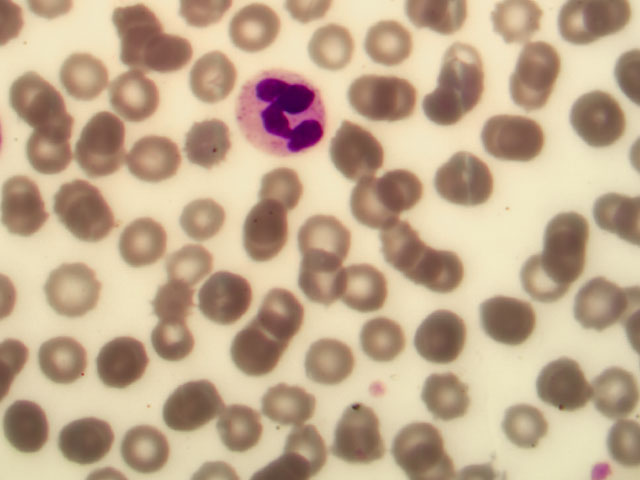Platelets: (590, 461, 613, 480), (367, 380, 389, 399)
RBC: (512, 42, 556, 107), (566, 1, 632, 43), (566, 94, 632, 136), (536, 201, 602, 243), (533, 239, 599, 281), (514, 256, 580, 298), (567, 282, 633, 324), (476, 299, 542, 341), (412, 313, 478, 355), (428, 250, 494, 292), (394, 240, 460, 282), (372, 216, 438, 258), (415, 370, 481, 412), (490, 409, 556, 451), (527, 358, 593, 400), (574, 375, 640, 417), (380, 419, 446, 461), (329, 405, 395, 447), (286, 421, 352, 463), (259, 381, 325, 423), (214, 404, 280, 446), (162, 382, 228, 424), (118, 429, 184, 471), (61, 416, 127, 458), (5, 401, 71, 443), (307, 22, 363, 71), (354, 17, 410, 66), (338, 71, 394, 120), (371, 75, 427, 124), (333, 120, 389, 169), (340, 177, 396, 226), (373, 158, 429, 207), (439, 154, 495, 203), (482, 116, 538, 165), (412, 80, 468, 129), (431, 53, 487, 102), (498, 59, 554, 108), (490, 1, 556, 42), (58, 50, 110, 101), (103, 67, 155, 118), (121, 17, 173, 68), (144, 22, 196, 73), (180, 51, 232, 102), (181, 115, 233, 166), (131, 134, 183, 185), (77, 105, 129, 156), (70, 134, 122, 185), (19, 129, 71, 180), (20, 79, 72, 130), (4, 59, 56, 110), (48, 171, 100, 222), (72, 202, 124, 253), (47, 260, 99, 311), (39, 331, 91, 382), (102, 336, 154, 387), (147, 315, 199, 366), (148, 274, 200, 325), (166, 240, 218, 291), (121, 215, 173, 266), (181, 191, 233, 242), (240, 206, 292, 257), (258, 167, 310, 218), (295, 206, 347, 257), (297, 252, 349, 303), (328, 256, 380, 307), (257, 283, 309, 334), (245, 320, 297, 371), (301, 338, 353, 389), (355, 316, 407, 367), (1, 175, 52, 226), (233, 3, 277, 53)
WBC: (240, 71, 326, 157)
